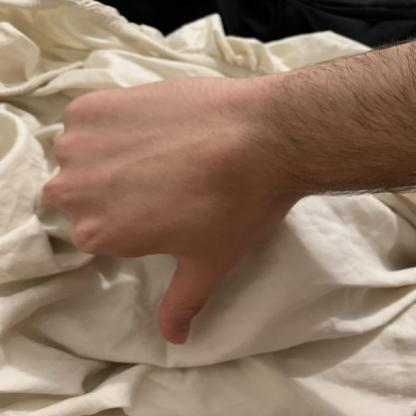Thumbs-Down: (33, 60, 302, 344)
